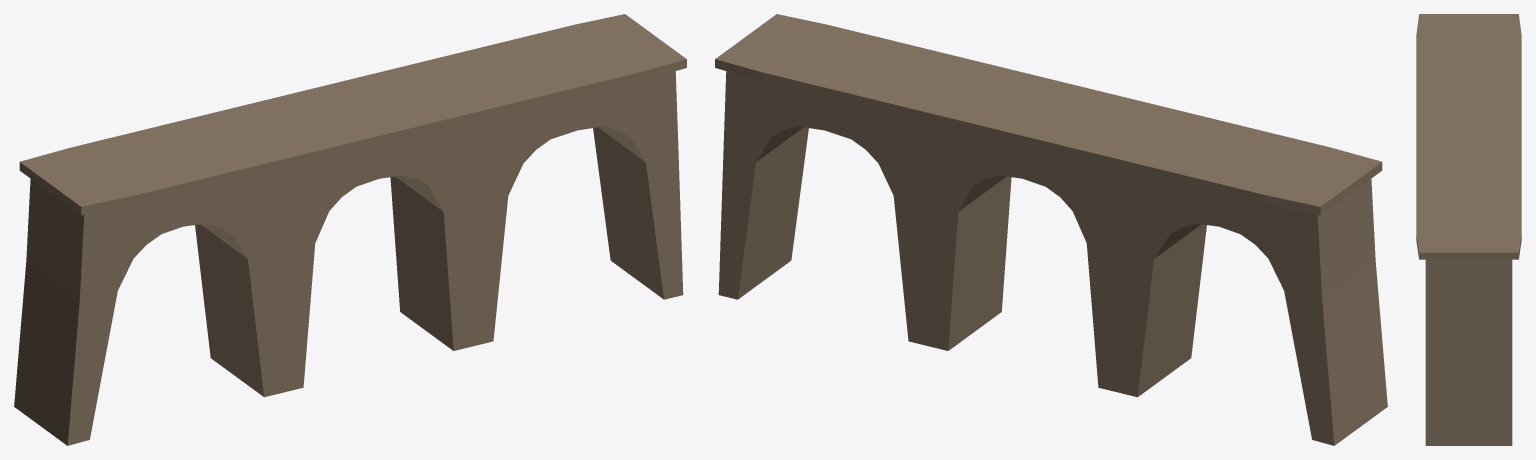
Rendered from BuriedShapes.fbx.
3 views of the same model, side by side, from view 1: azimuth 30°, elevation 25°; view 2: azimuth 150°, elevation 25°; view 3: azimuth 270°, elevation 25° (orthographic). The views are drawn at different scales.
Parts seen in each view (by area): view 1: buried_archs_low; view 2: buried_archs_low; view 3: buried_archs_low.
Part boxes in pixels (bbox=[...]): buried_archs_low: bbox=[14, 14, 686, 445]; buried_archs_low: bbox=[715, 14, 1387, 445]; buried_archs_low: bbox=[1416, 14, 1521, 445].
Bounding box in the file's own units: 108 × 19.8 × 40.21.
